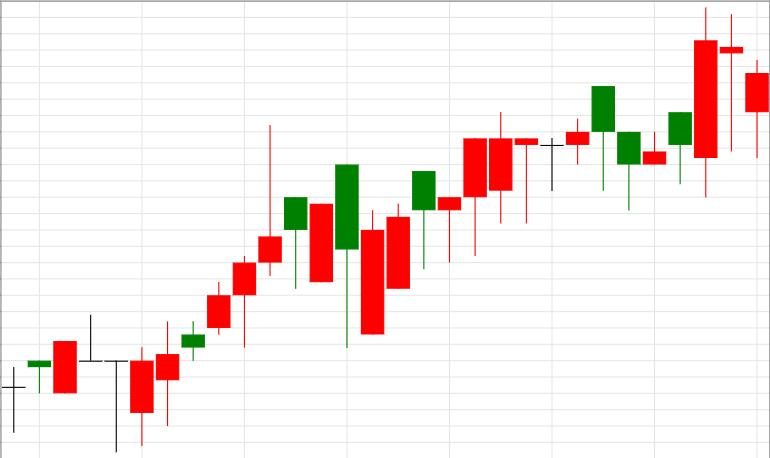hanging_man_fall: (130, 197, 308, 446)
shooting_star_fall: (130, 126, 282, 446)
